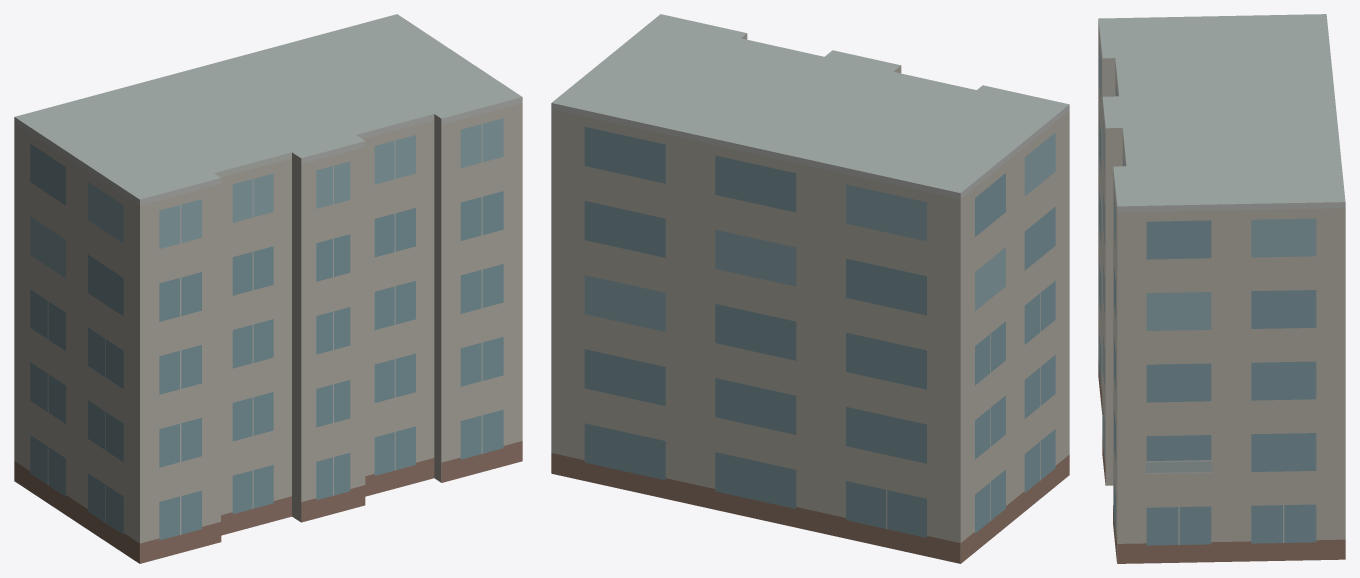
The model's file is survey-upis-32597172.glb.
The picture shows the model from 3 angles, left to right: view 1: azimuth 30°, elevation 25°; view 2: azimuth 150°, elevation 25°; view 3: azimuth 270°, elevation 25°; orthographic projection. The views are drawn at different scales.
Parts seen in each view (by area): view 1: survey-upis-32597172.tmp; view 2: survey-upis-32597172.tmp; view 3: survey-upis-32597172.tmp.
Boxes of the visible parts, <box> form: survey-upis-32597172.tmp: <box>14,14,522,563</box>; survey-upis-32597172.tmp: <box>551,14,1069,563</box>; survey-upis-32597172.tmp: <box>1098,14,1345,563</box>.
Size of the model in its own units: 16.85 by 14.6 by 9.16.
